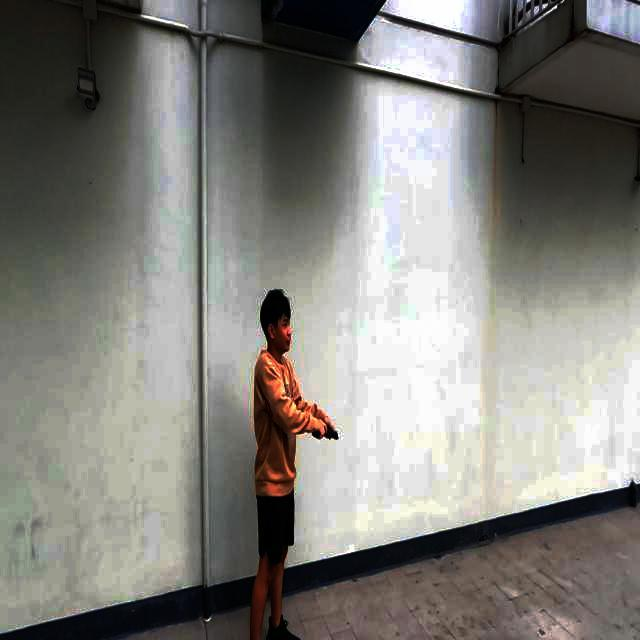Gun: (306, 410, 347, 452)
